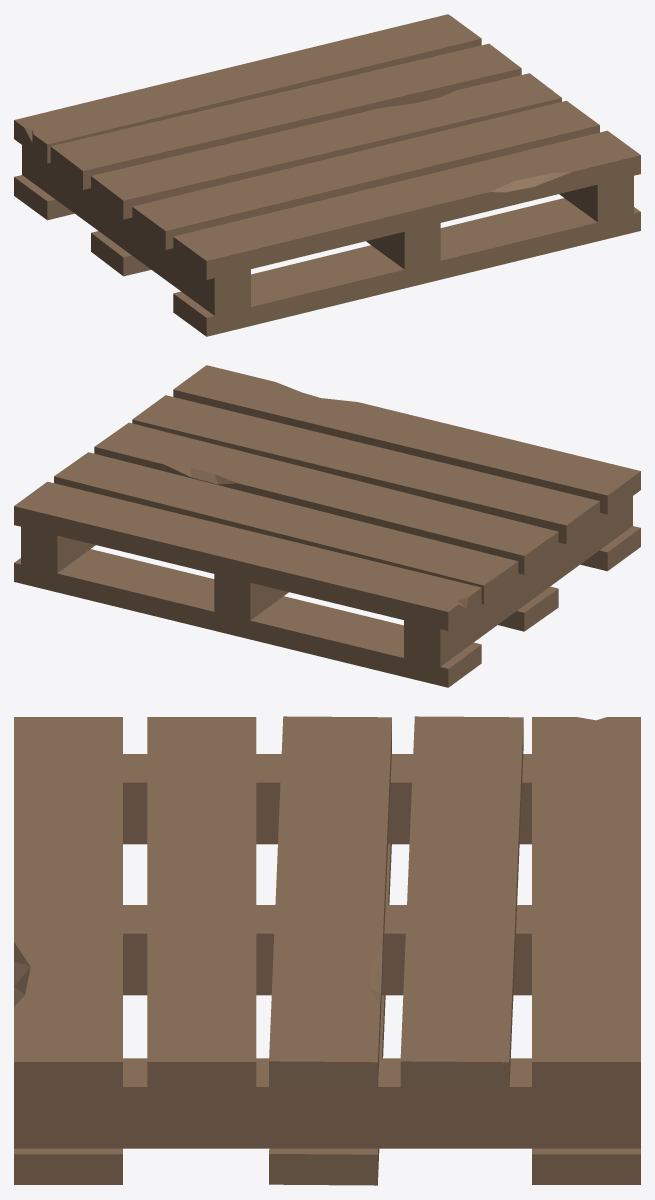
File: Wh_Pallet.fbx
3 views of the same model, one above another, from view 1: azimuth 30°, elevation 25°; view 2: azimuth 150°, elevation 25°; view 3: azimuth 270°, elevation 25° (orthographic). The views are drawn at different scales.
Visible parts, largest first — view 1: Cube.838; view 2: Cube.838; view 3: Cube.838.
Part boxes in pixels (x1,y1,x2,y2): Cube.838: [14, 14, 640, 336]; Cube.838: [14, 365, 640, 687]; Cube.838: [14, 716, 640, 1185].
Size of the model in its own units: 170 by 28.2 by 130.
